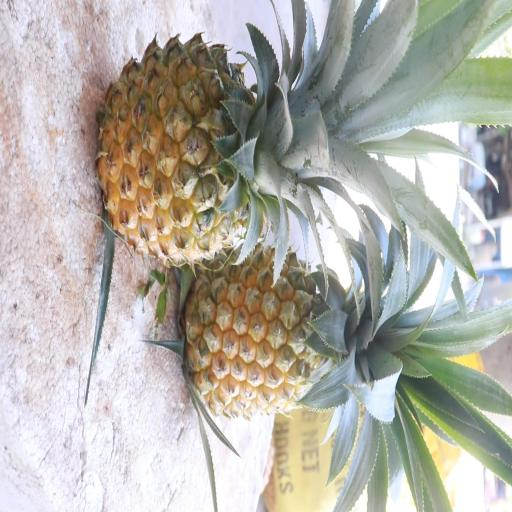Pineapple - v8 v1: (94, 26, 338, 267), (180, 234, 394, 427)
